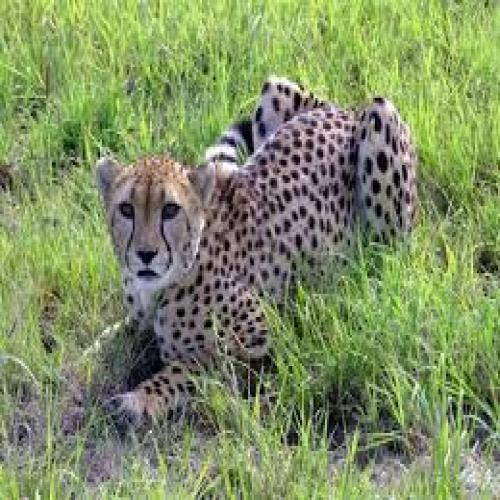cheetah-endangered: (95, 76, 414, 404)
